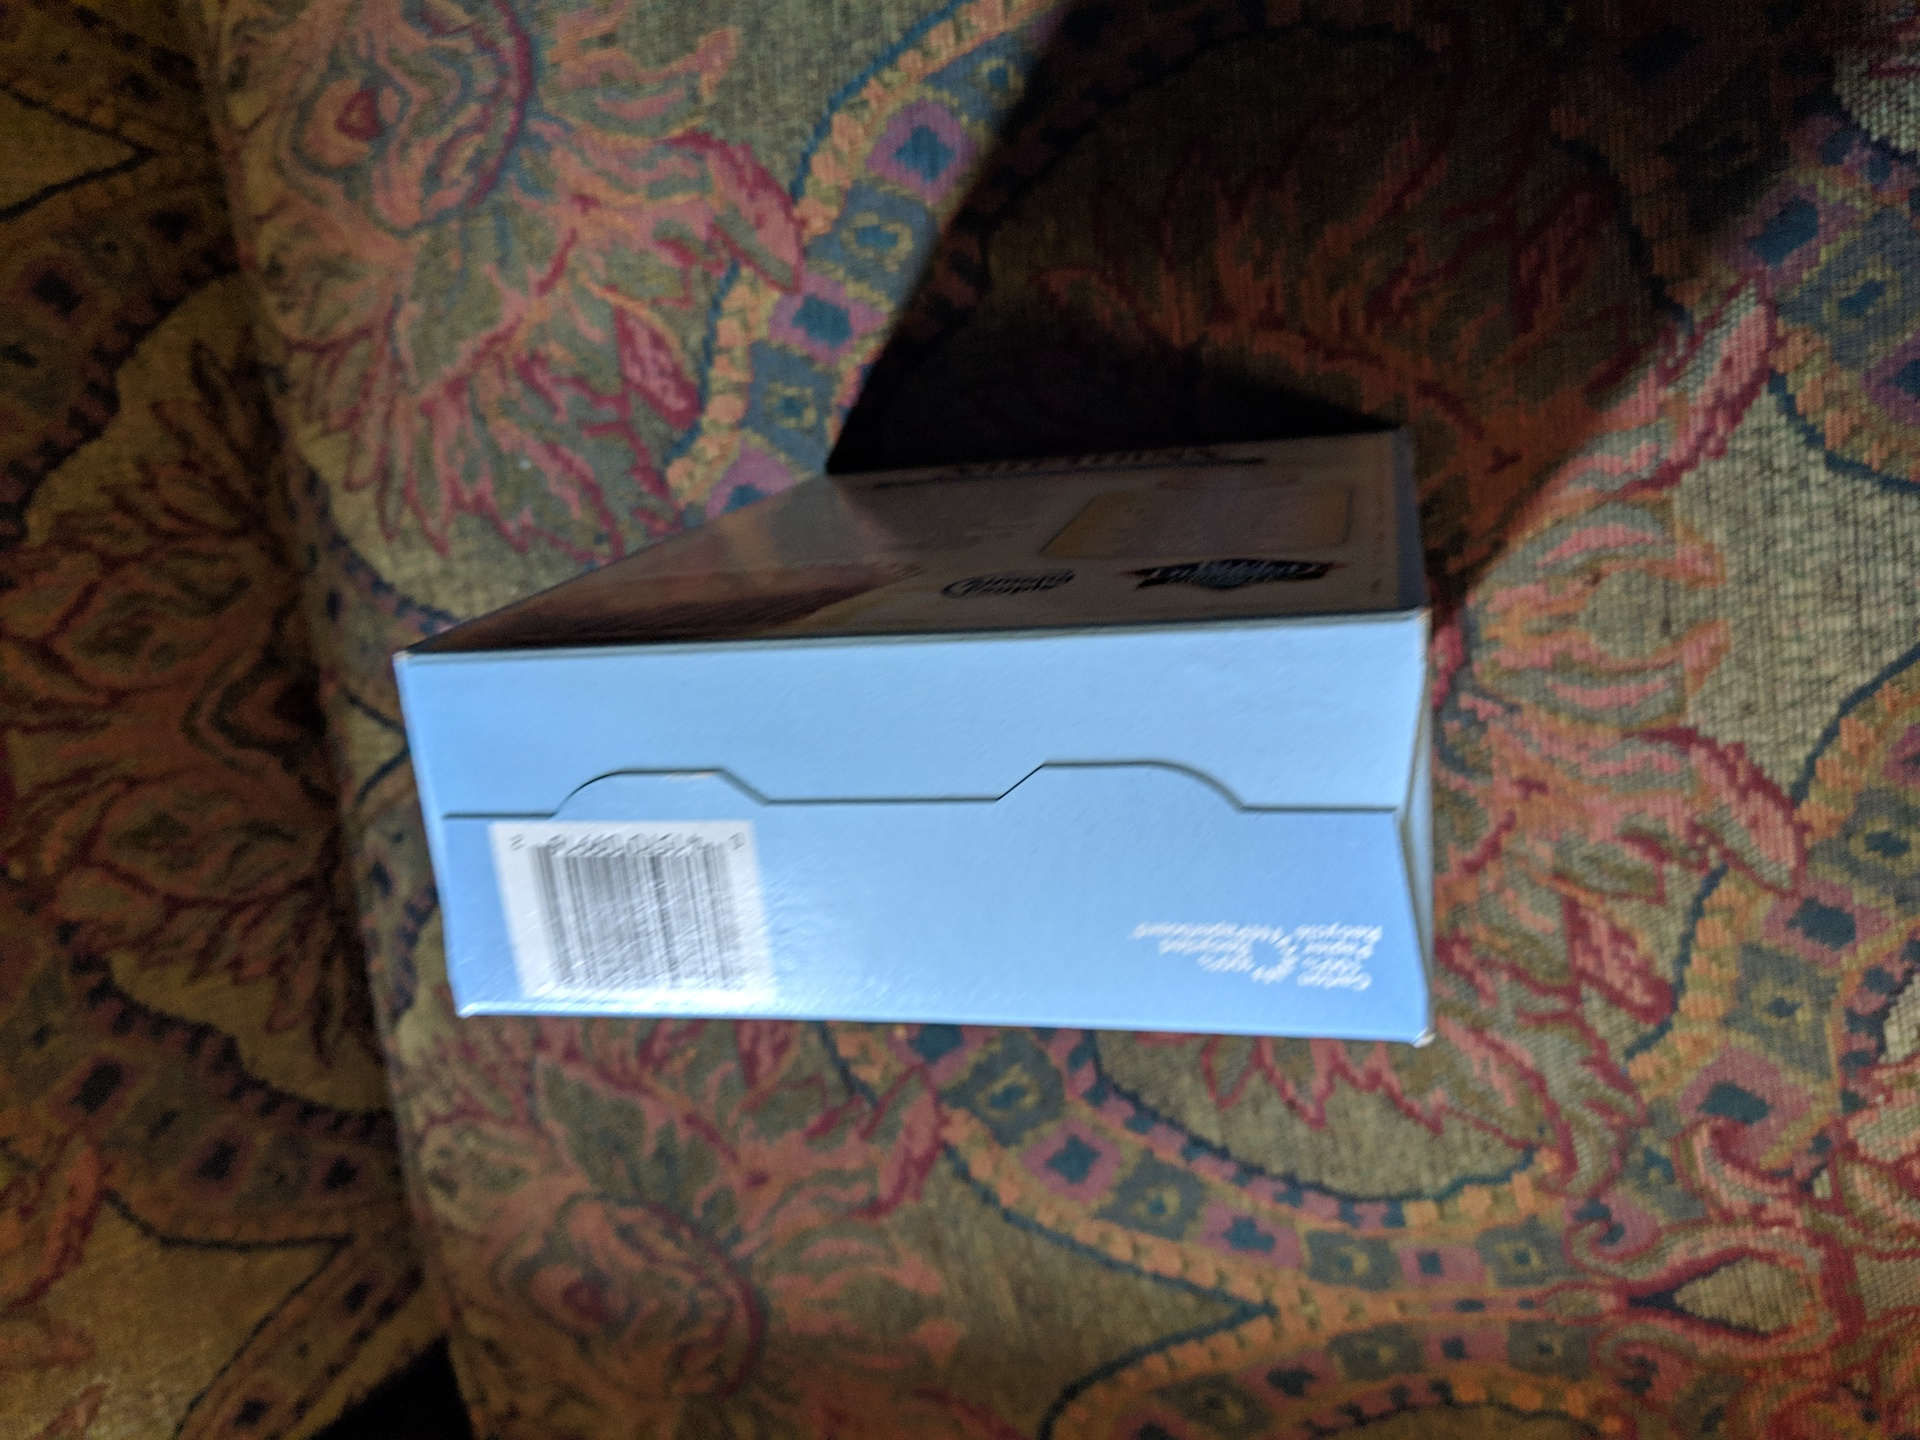blue_diamond_nut_thins_almond_seasalt: (441, 437, 1426, 1013)
